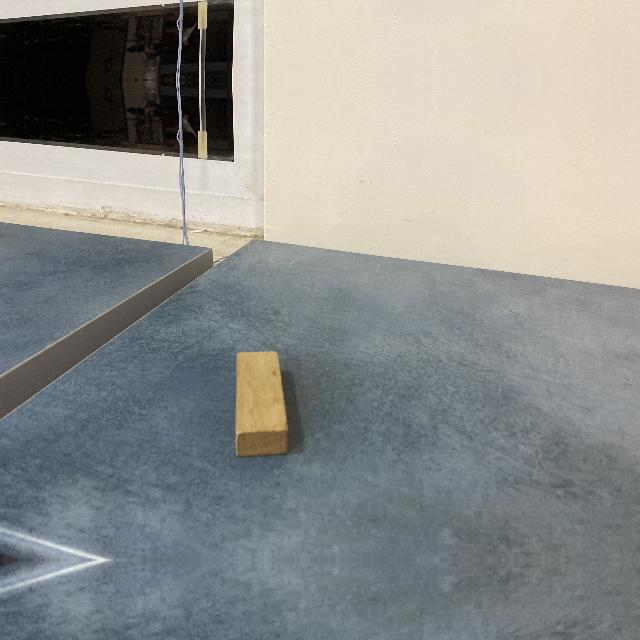jenga: (234, 349, 286, 456)
